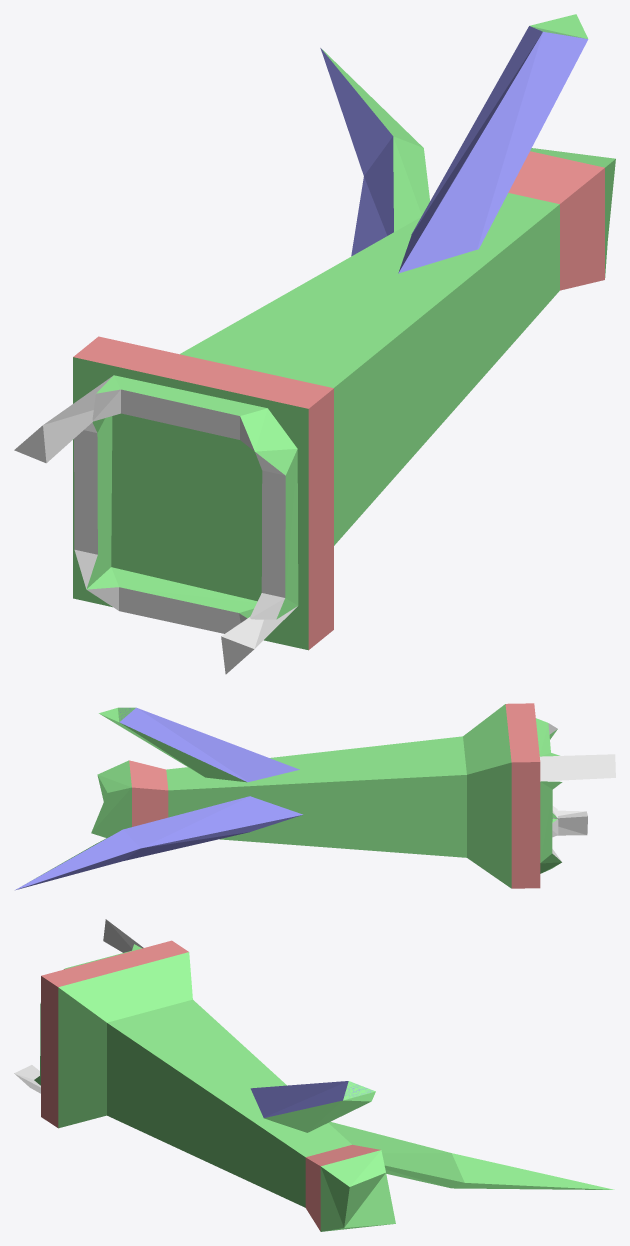
File: Field_Deco_Artifact_S__world_obj18.gltf
3 renders of one model, top to bottom at view 1: azimuth 30°, elevation 25°; view 2: azimuth 150°, elevation 25°; view 3: azimuth 270°, elevation 25°, orthographic. The views are drawn at different scales.
Parts seen in each view (by area): view 1: world_obj18; view 2: world_obj18; view 3: world_obj18.
Part boxes in pixels (left/top/right/bottom): world_obj18: left=14, top=14, right=615, bottom=674; world_obj18: left=15, top=703, right=615, bottom=890; world_obj18: left=14, top=919, right=614, bottom=1231.
Bounding box in the file's own units: 1.11 × 0.4061 × 1.24.
